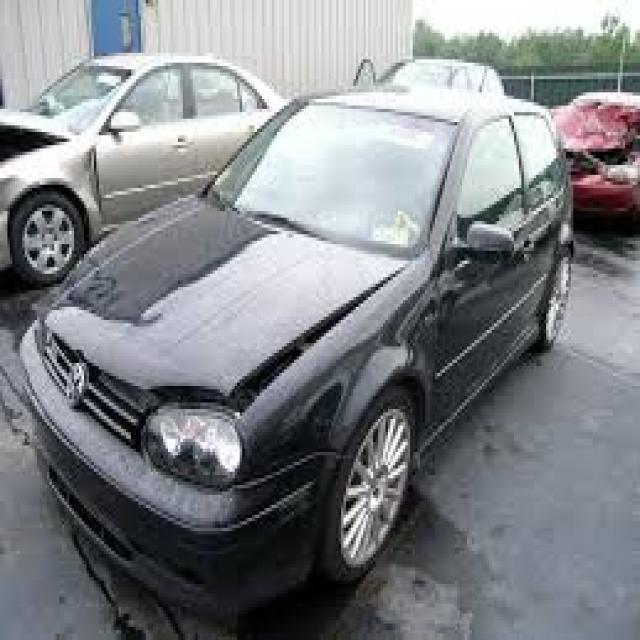minor: (2, 252, 404, 399)
